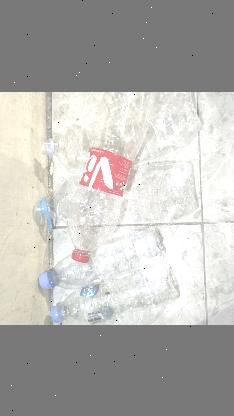Plastic Bottle: (34, 92, 202, 240), (38, 230, 170, 288)
